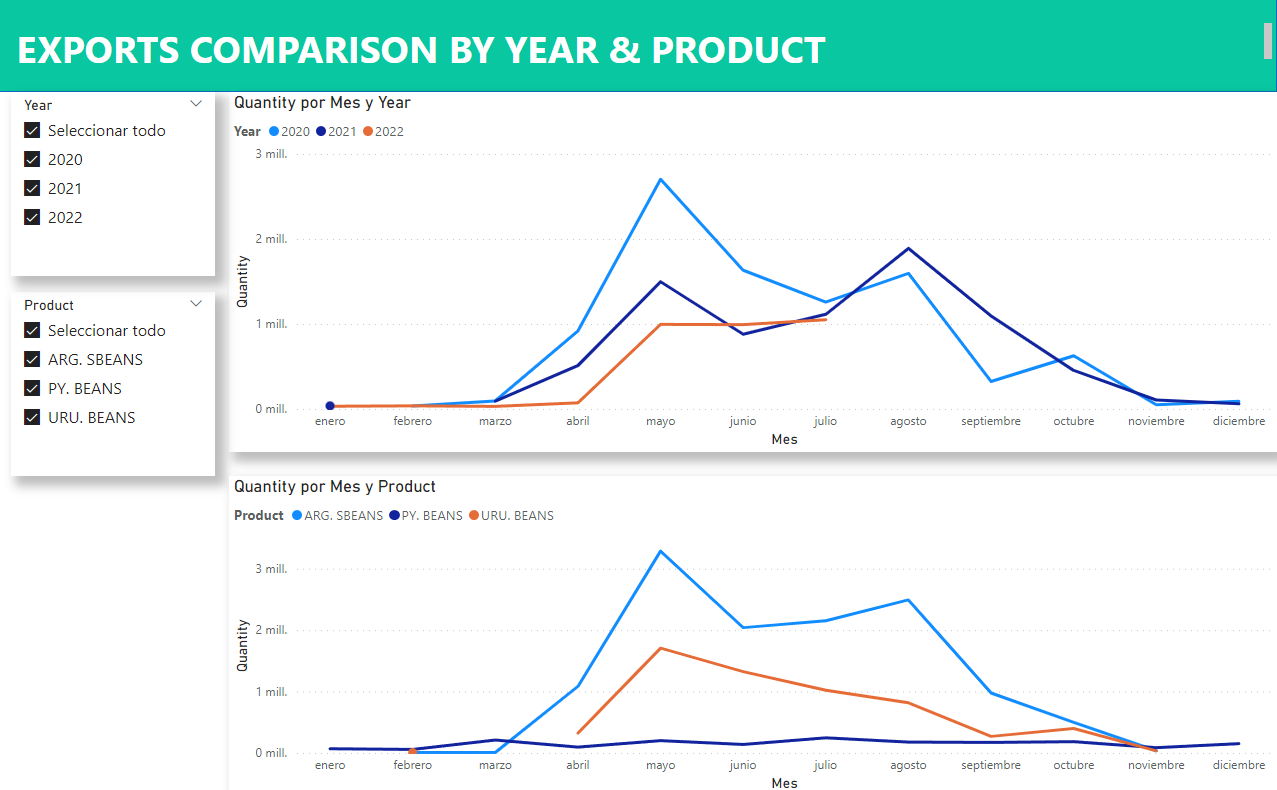

This screenshot's page, from the dashboard's own definition file:
{"tool":"powerbi","page":{"name":"Exports YoY","canvas":[1280,800],"ordinal":5},"visuals":[{"type":"shape","box":[0,0,1280,96],"z":0},{"type":"lineChart","fields":{"Category":["LineupExpo.Month.Variación.Jerarquía de fechas.Mes"],"Y":["Sum(LineupExpo.Quantity)"],"Series":["LineupExpo.Year"]},"box":[232,96,1048,360],"z":1000},{"type":"slicer","fields":{"Values":["LineupExpo.Product"]},"box":[14,296,204,184],"z":2000},{"type":"slicer","fields":{"Values":["LineupExpo.Year"]},"box":[14,96,204,184],"z":3000},{"type":"lineChart","fields":{"Category":["LineupExpo.Month.Variación.Jerarquía de fechas.Mes"],"Y":["Sum(LineupExpo.Quantity)"],"Series":["LineupExpo.Product"]},"box":[232,480,1048,320],"z":4000},{"type":"textbox","box":[0,22,1280,52],"z":5000}]}

Visuals, with their boxes in screenshot pixels (x1, y1, x2, y2), scaled from the page's 1280x800 canvas onto the 1277x790 screenshot:
shape: BBox(0, 0, 1276, 95)
lineChart - LineupExpo.Month.Variación.Jerarquía de fechas.Mes x Sum(LineupExpo.Quantity): BBox(231, 95, 1276, 450)
slicer - LineupExpo.Product: BBox(14, 292, 217, 474)
slicer - LineupExpo.Year: BBox(14, 95, 217, 276)
lineChart - LineupExpo.Month.Variación.Jerarquía de fechas.Mes x Sum(LineupExpo.Quantity): BBox(231, 474, 1276, 789)
textbox: BBox(0, 22, 1276, 73)
